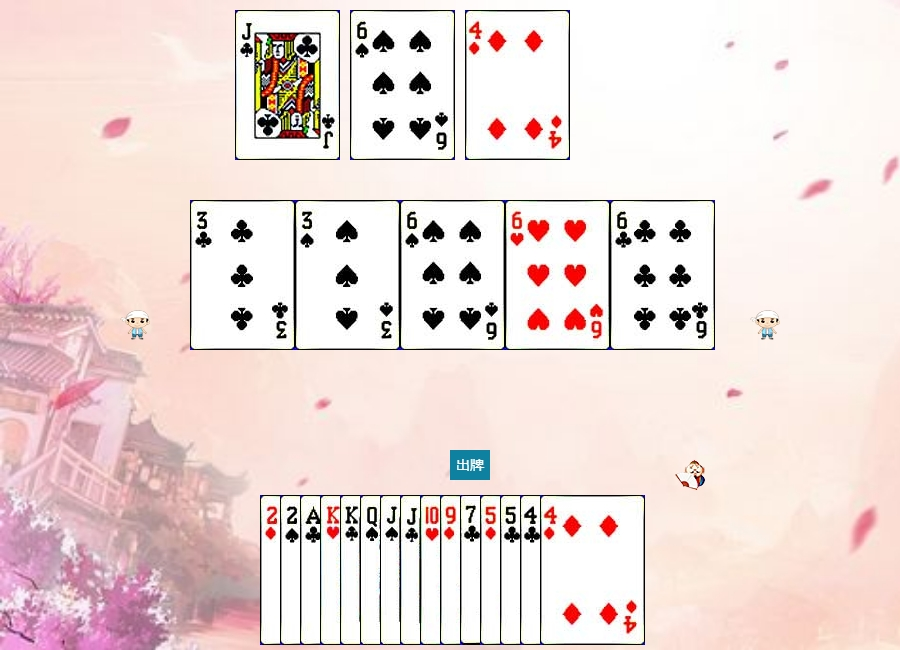10~3: (420, 495, 525, 645)
11~2: (235, 10, 340, 160), (400, 495, 505, 645)
11~4: (380, 495, 485, 645)
12~4: (360, 495, 465, 645)
13~2: (340, 495, 445, 645)
13~3: (320, 495, 425, 645)
14~2: (300, 495, 405, 645)
15~1: (260, 495, 365, 645)
15~4: (280, 495, 385, 645)
3~2: (190, 200, 295, 350)
3~4: (295, 200, 400, 350)
4~1: (465, 10, 570, 160), (540, 495, 645, 645)
4~2: (520, 495, 625, 645)
5~1: (480, 495, 585, 645)
5~2: (500, 495, 605, 645)
6~2: (610, 200, 715, 350)
6~3: (505, 200, 610, 350)
6~4: (350, 10, 455, 160), (400, 200, 505, 350)
7~2: (460, 495, 565, 645)
9~1: (440, 495, 545, 645)
